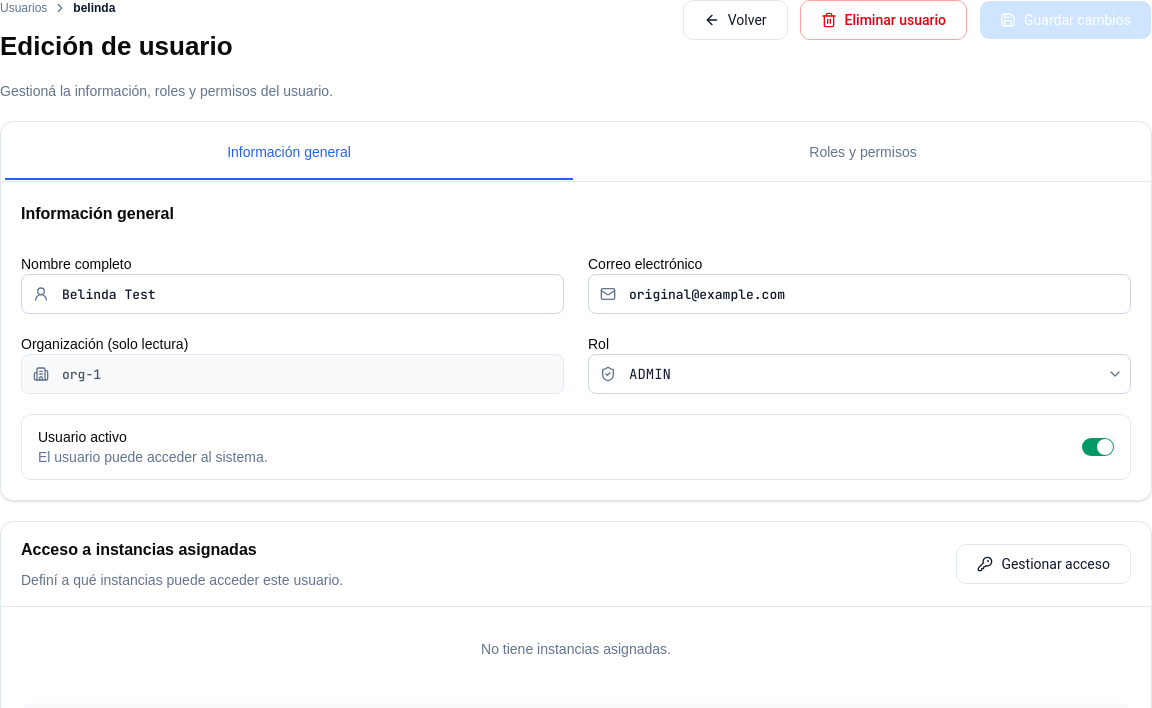
Test: DetailsUserPage email reauthentication › requires reauthentication, submits the profile request, and keeps the original email displayed
The image size is (1152, 708).
Replace the text in the field labelled "Correo electrónico" with "nuevo@example.com" at x=860, y=294, box [588,274,1131,314]
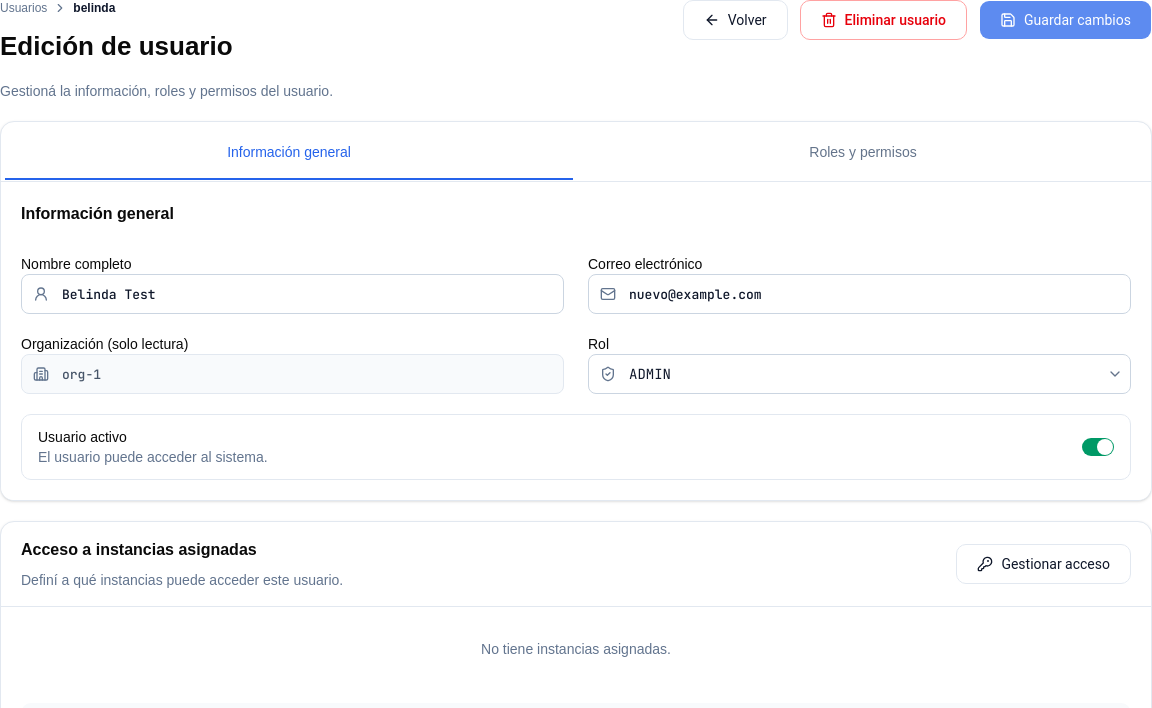
Click the button "Guardar cambios" at x=1066, y=20, box [979,0,1151,40]
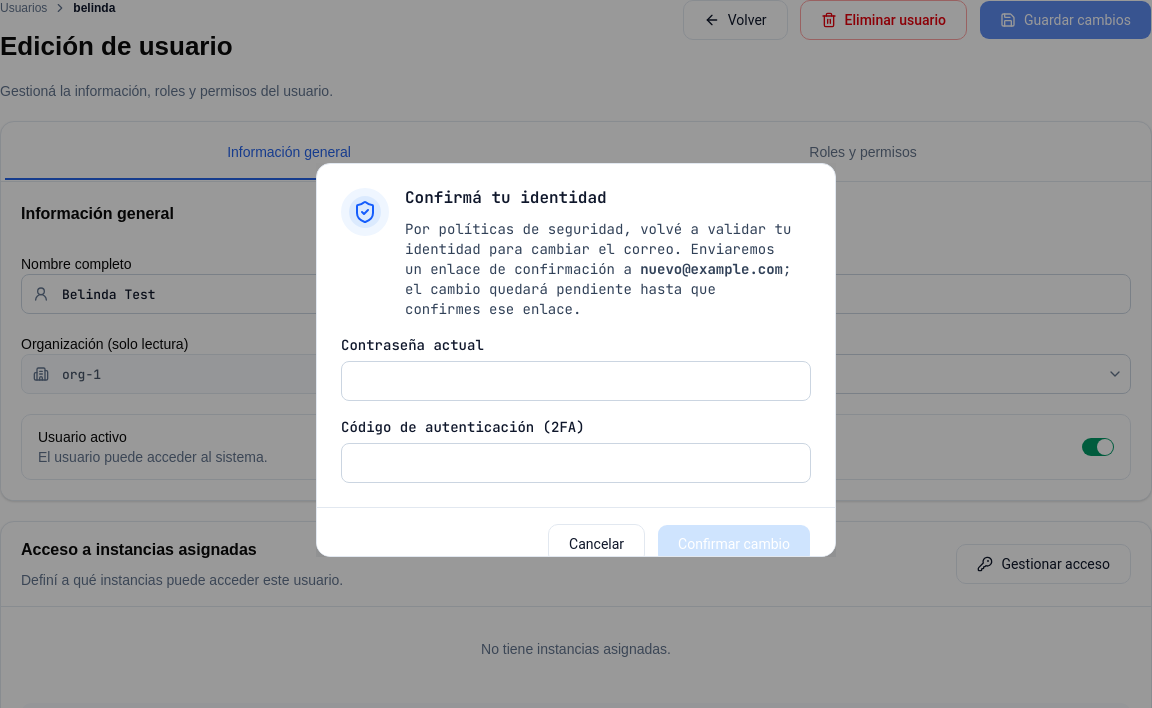
Expected: the dialog "Confirmá tu identidad" is shown, [316,163,836,557]
Type "clave-actual" into the password field labelled "Contraseña actual" at x=576, y=381, box [341,361,811,401]
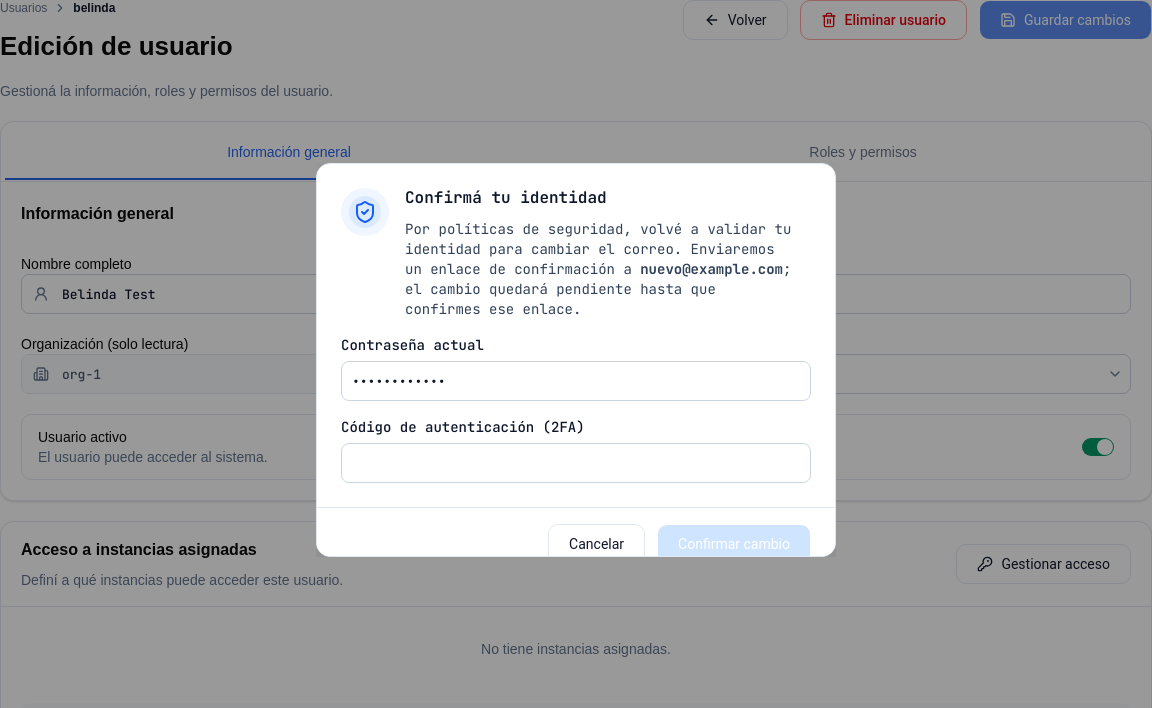
Type "123456" into the field labelled "Código de autenticación (2FA)" at x=576, y=463, box [341,443,811,483]
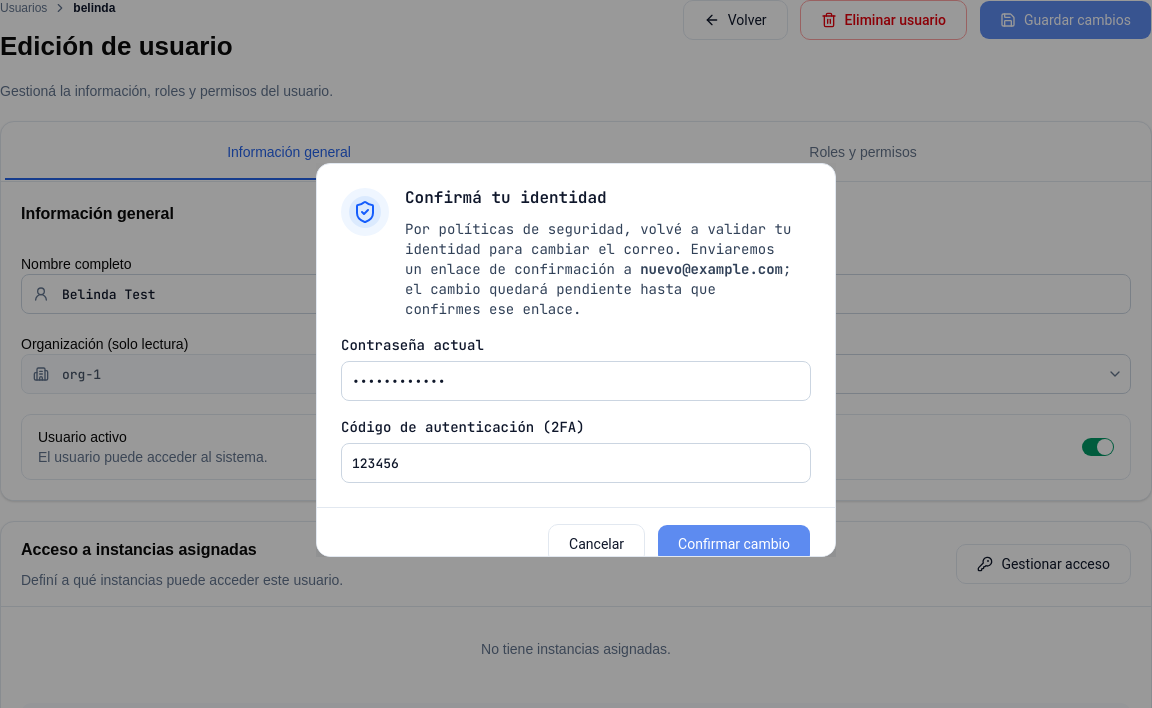
Click the button "Confirmar cambio" at x=734, y=544, box [657,524,811,564]
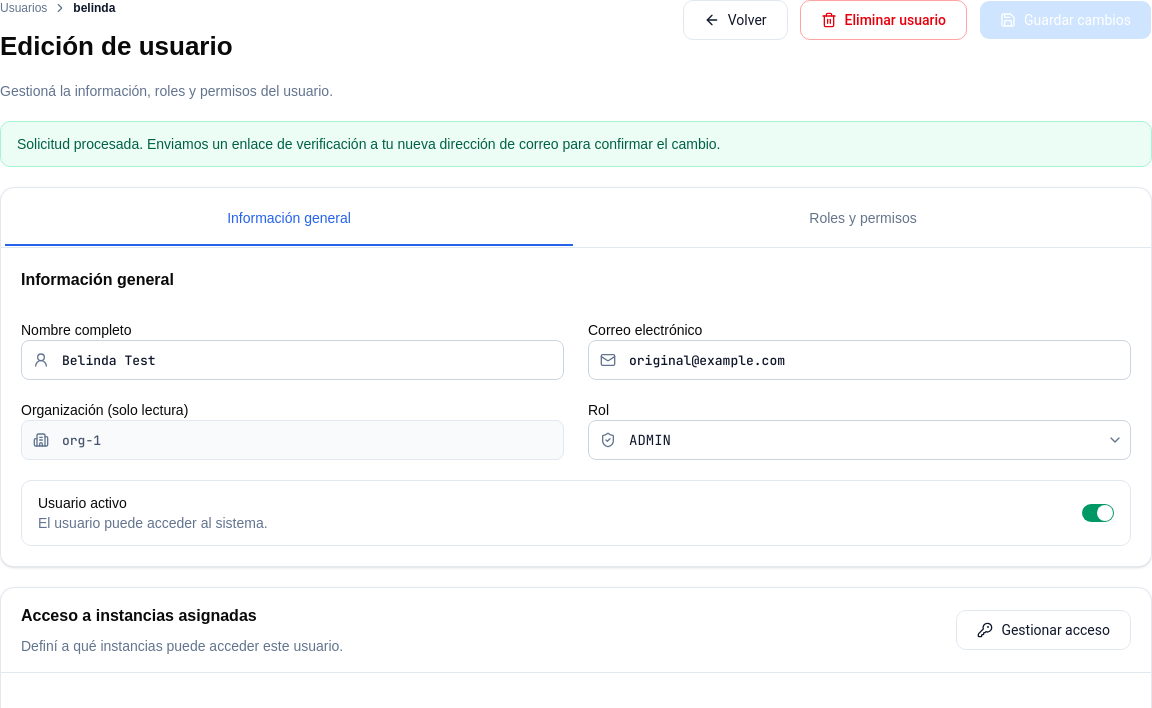
Expected: the message shows "Solicitud procesada. Enviamos un enlace de verificación a tu nueva dirección de correo para confirmar el cambio.", [17,136,720,152]
Expected: the field labelled "Correo electrónico" holds "original@example.com", [588,340,1131,380]
